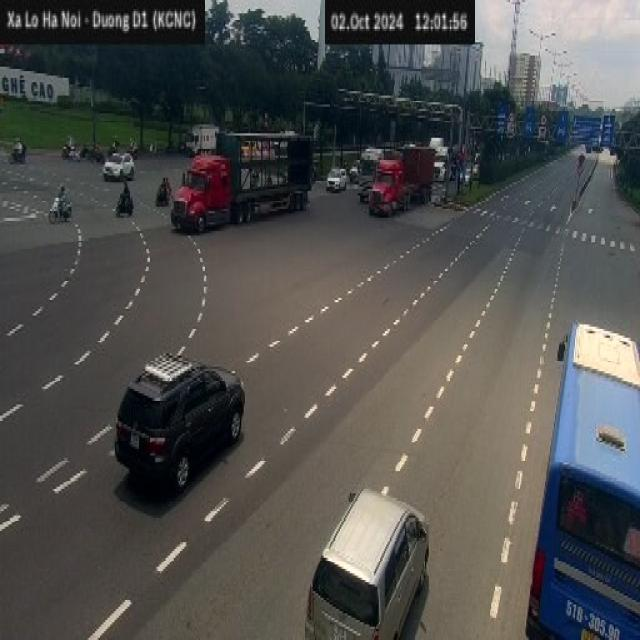bus: (524, 320, 638, 638)
car: (114, 349, 245, 493), (304, 487, 428, 638)
container-truck: (170, 127, 312, 233)
motorcycle: (48, 196, 72, 222), (115, 191, 133, 216)
